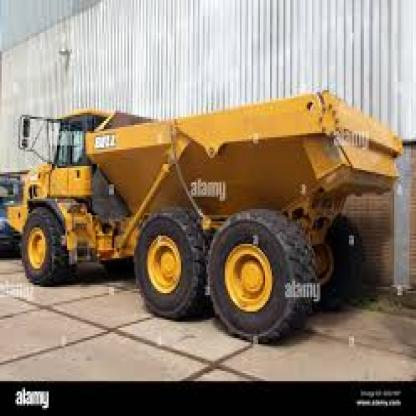dump_truck: (7, 78, 409, 352)
